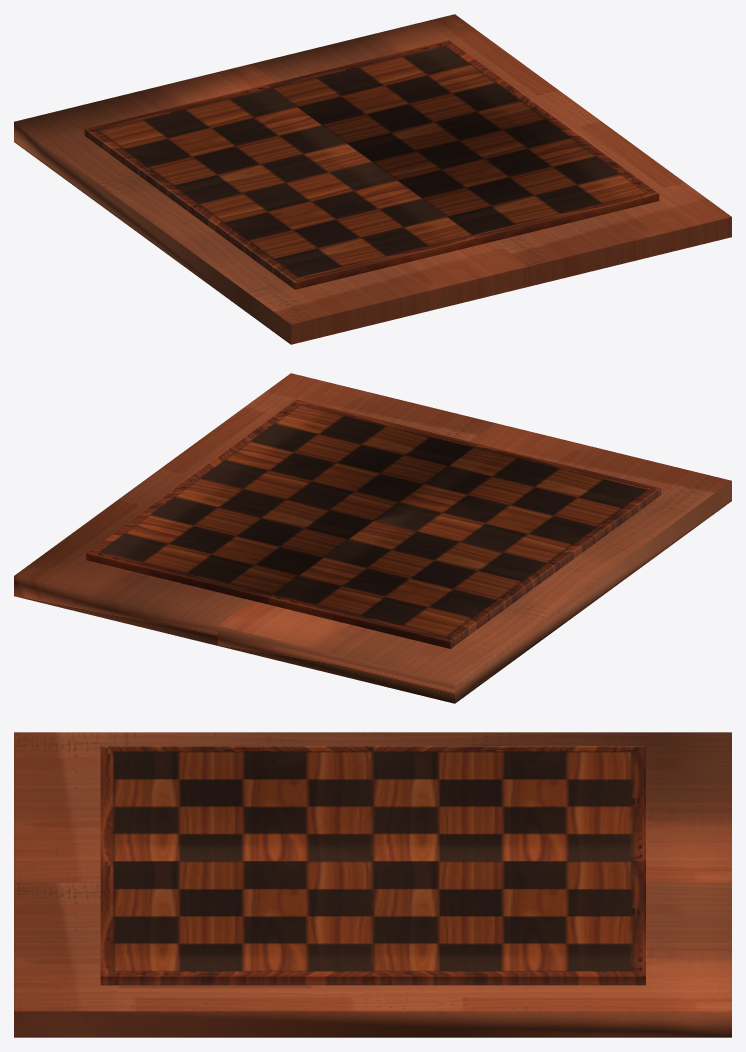
The model's file is standard.fbx.
3 renders of one model, top to bottom at view 1: azimuth 30°, elevation 25°; view 2: azimuth 150°, elevation 25°; view 3: azimuth 270°, elevation 25°, orthographic. The views are drawn at different scales.
Visible parts, largest first — view 1: Standard; view 2: Standard; view 3: Standard.
Part boxes in pixels (x1,y1,x2,y2): Standard: (14,14,731,344); Standard: (14,373,731,703); Standard: (14,732,731,1037).
Bounding box in the file's own units: 2.54 × 0.1541 × 2.76.
